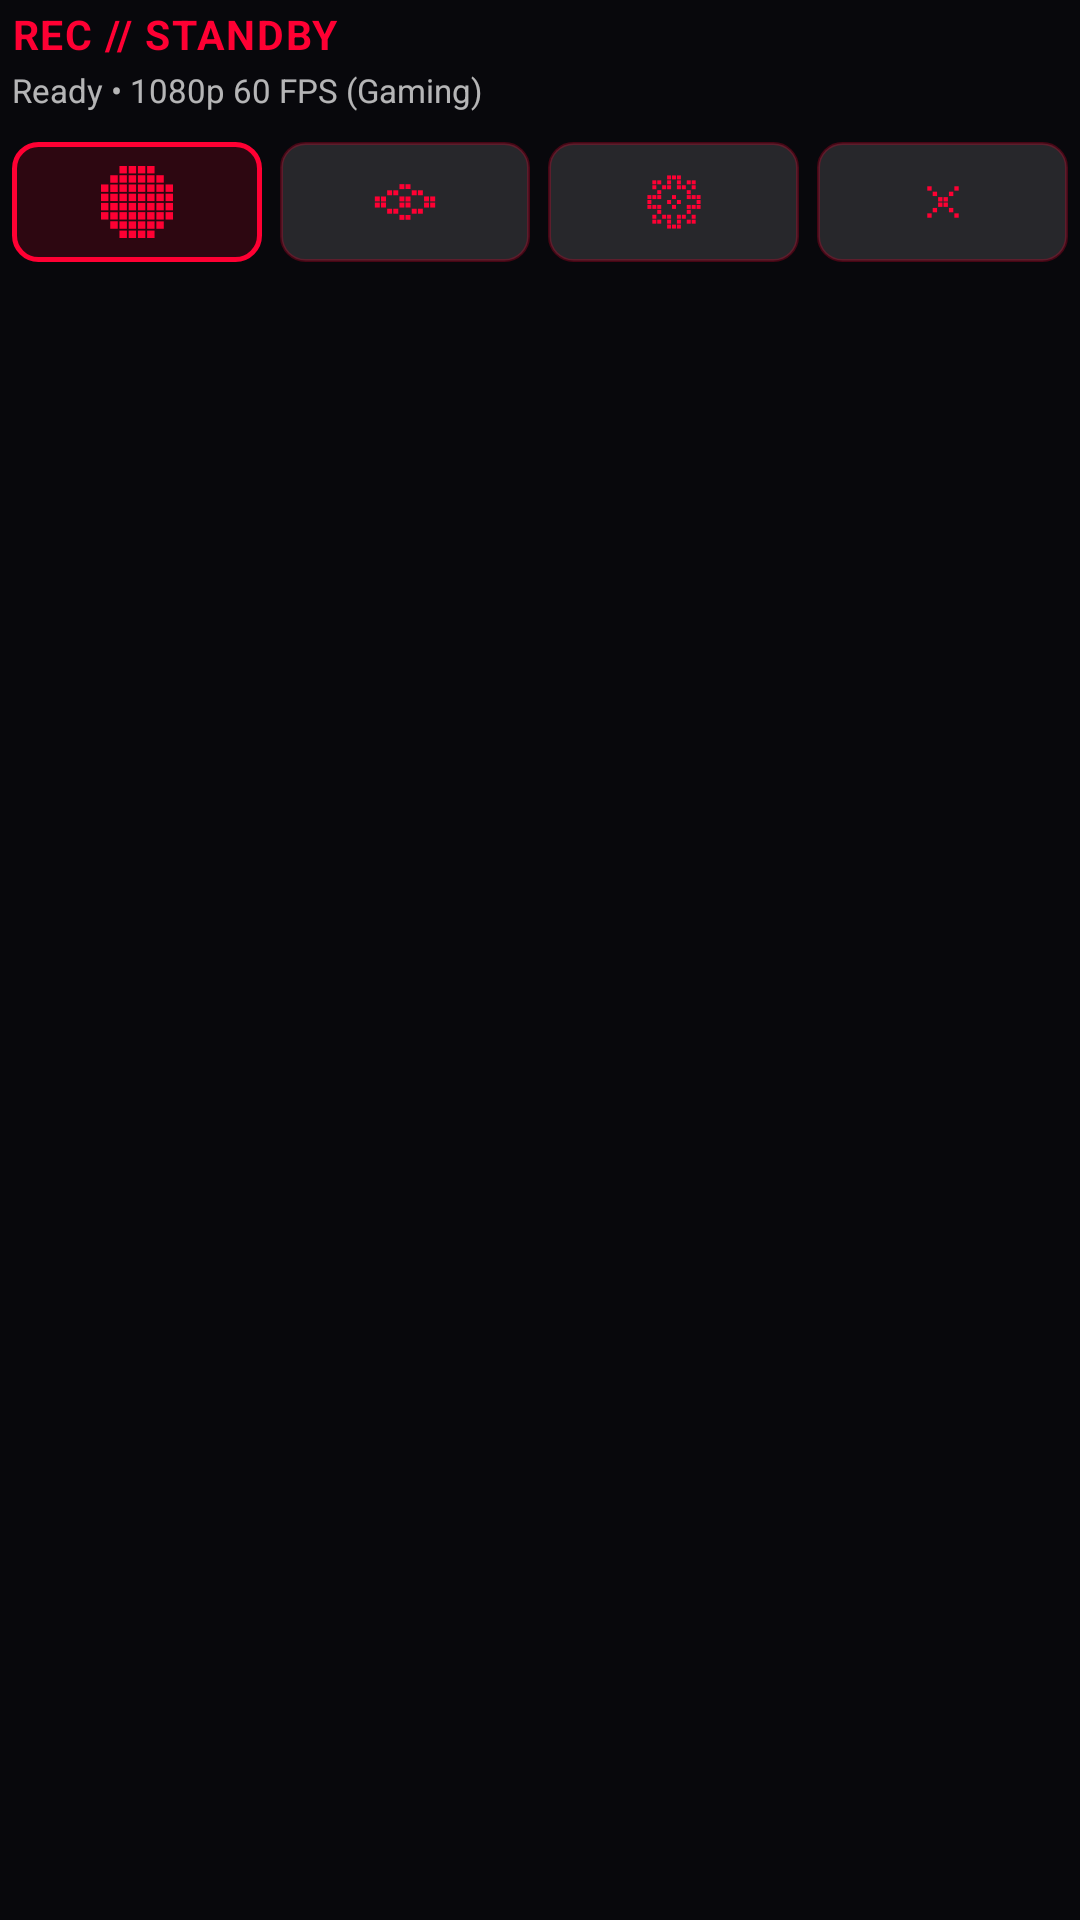

Locate icon controls on the screen. Image size 1080*1920, boxes as (x1, y1, x2, y2).
Dismiss: (817, 142, 1068, 262)
Overlay Pill: (280, 142, 530, 262)
Record: (12, 142, 262, 262)
Settings: (548, 142, 799, 262)
